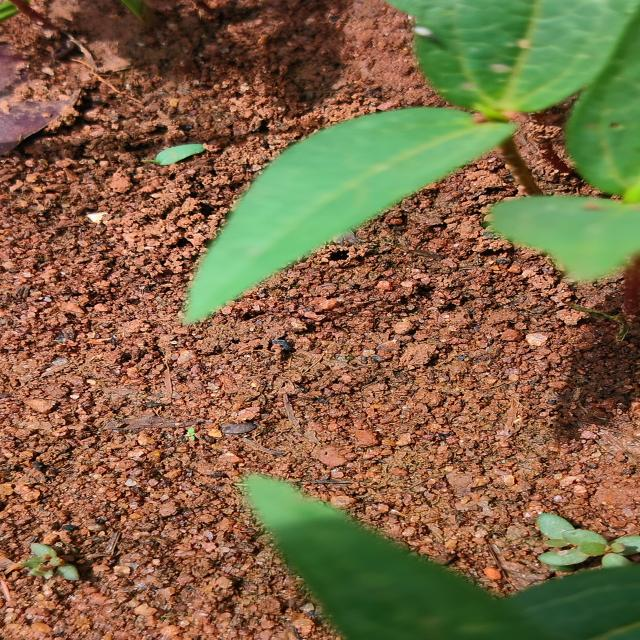Black gram_healthy: (164, 101, 503, 326)
